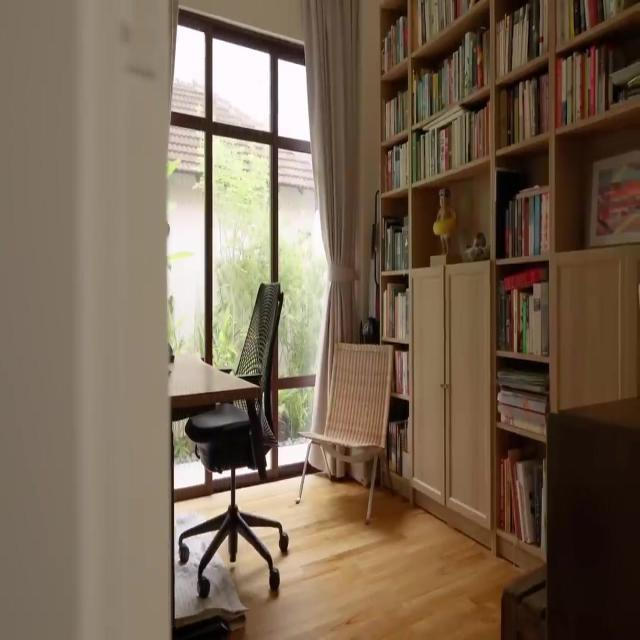door: (410, 258, 492, 534)
obstacle: (178, 281, 289, 598), (168, 353, 260, 631), (295, 341, 393, 524)
